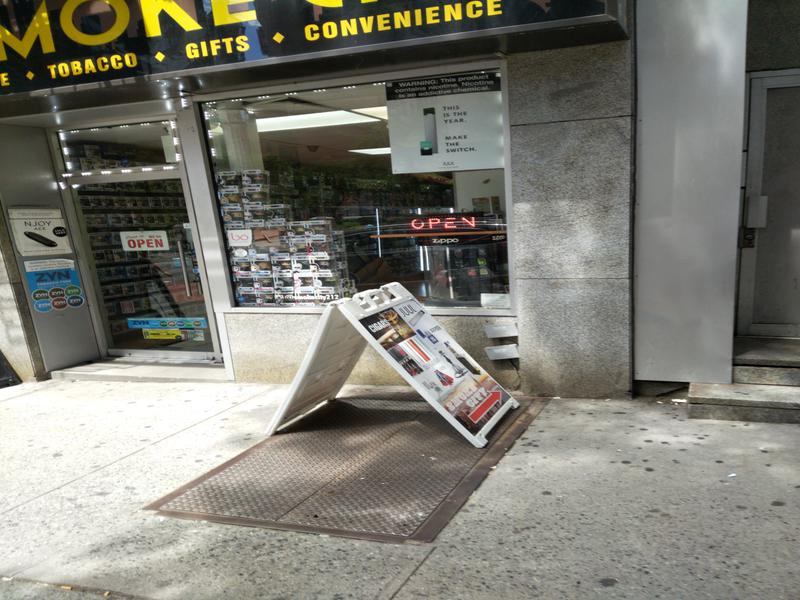door: (59, 169, 244, 371)
